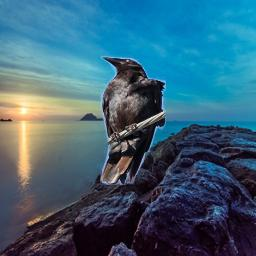Crow: (100, 55, 166, 185)
